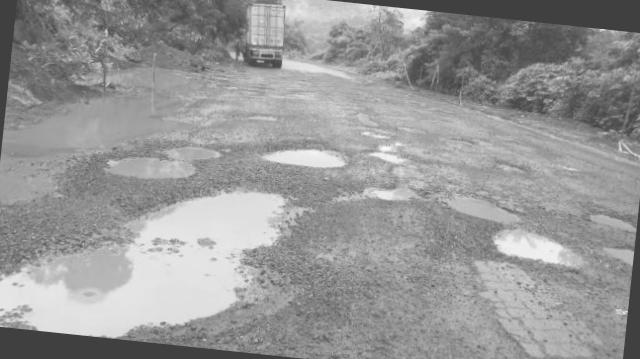Pothole: (0, 151, 327, 358), (0, 29, 232, 224), (436, 186, 591, 280), (102, 134, 216, 188), (351, 110, 425, 180), (264, 140, 348, 176), (582, 202, 638, 237), (364, 179, 424, 206), (492, 157, 540, 188), (599, 236, 635, 268), (444, 134, 478, 154)
